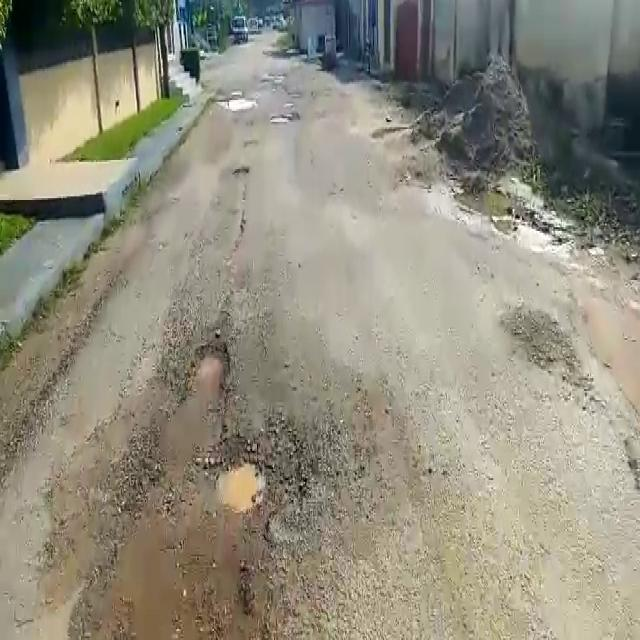Pothole: (214, 457, 266, 513), (188, 344, 230, 404), (212, 98, 258, 111)
